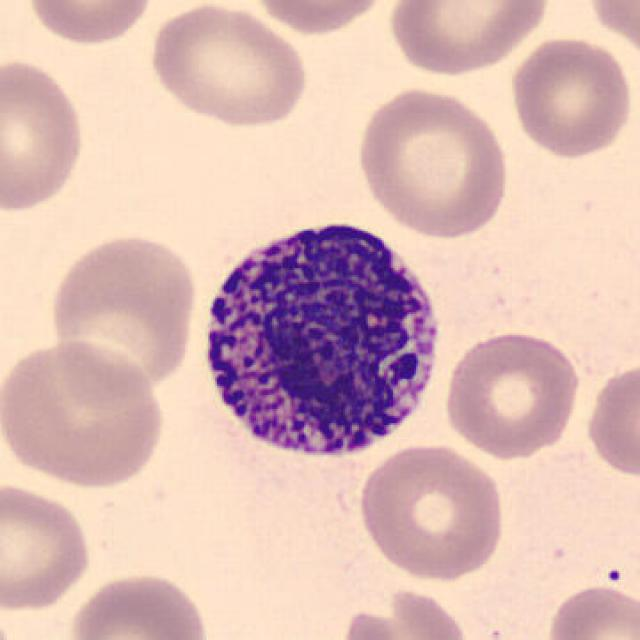Basophil: (190, 205, 452, 472)
RBC: (44, 228, 201, 400), (0, 335, 169, 492), (352, 84, 514, 240), (354, 439, 508, 584), (142, 0, 311, 130), (441, 326, 583, 460), (505, 34, 635, 160), (0, 55, 89, 215), (384, 0, 555, 78), (0, 478, 94, 615), (63, 567, 213, 640), (336, 585, 473, 640), (583, 356, 638, 481), (22, 0, 158, 48), (542, 580, 640, 640), (245, 0, 395, 39), (583, 0, 640, 67)
